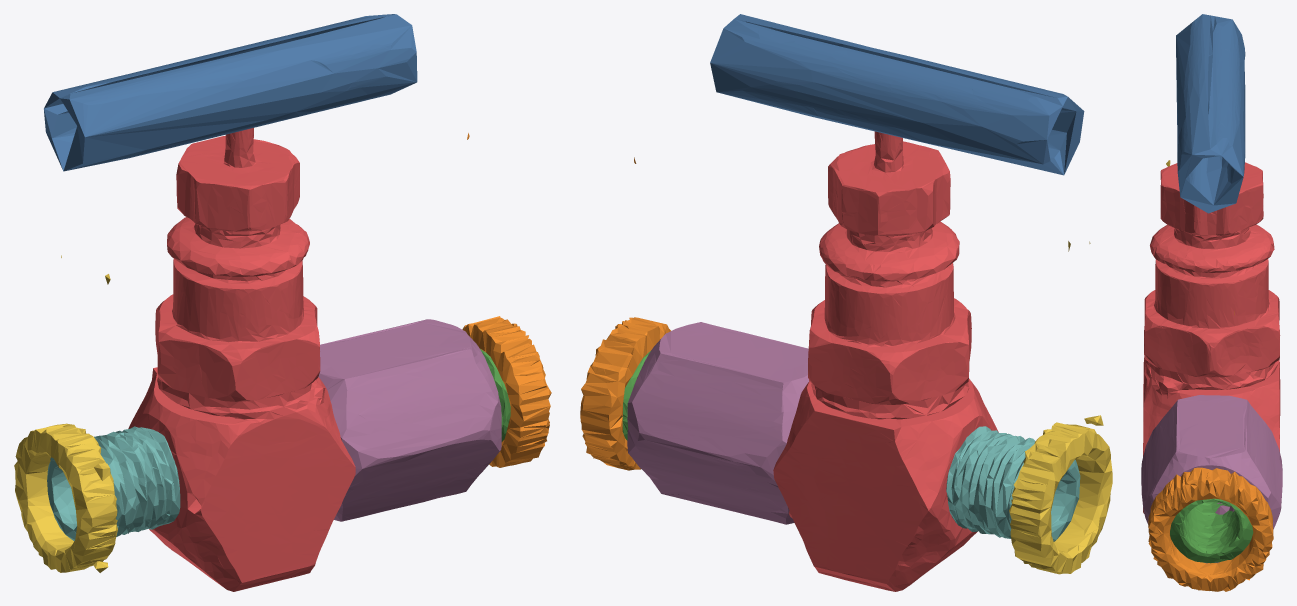
Rendered from valve_ours_assembled.glb.
3 views of the same model, side by side, from view 1: azimuth 30°, elevation 25°; view 2: azimuth 150°, elevation 25°; view 3: azimuth 270°, elevation 25° (orthographic). The views are drawn at different scales.
Parts seen in each view (by area): view 1: part_02, part_00, part_06, part_05, part_03, part_01, part_04; view 2: part_02, part_00, part_06, part_05, part_03, part_01; view 3: part_02, part_00, part_06, part_01, part_04.
Part boxes in pixels (x1,y1,x2,y2): part_02: [128, 128, 355, 591]; part_00: [44, 14, 417, 171]; part_06: [318, 319, 501, 521]; part_05: [14, 255, 117, 572]; part_03: [47, 426, 180, 540]; part_01: [462, 133, 551, 467]; part_04: [480, 349, 510, 441]; part_02: [773, 131, 998, 591]; part_00: [710, 14, 1084, 175]; part_06: [627, 322, 809, 524]; part_05: [1009, 241, 1112, 574]; part_03: [946, 426, 1080, 541]; part_01: [580, 157, 670, 470]; part_02: [1143, 162, 1280, 513]; part_00: [1176, 14, 1245, 213]; part_06: [1141, 395, 1282, 563]; part_01: [1148, 311, 1273, 591]; part_04: [1170, 498, 1253, 563].
Size of the model in its own units: 0.9846 by 1.01 by 0.3043.
